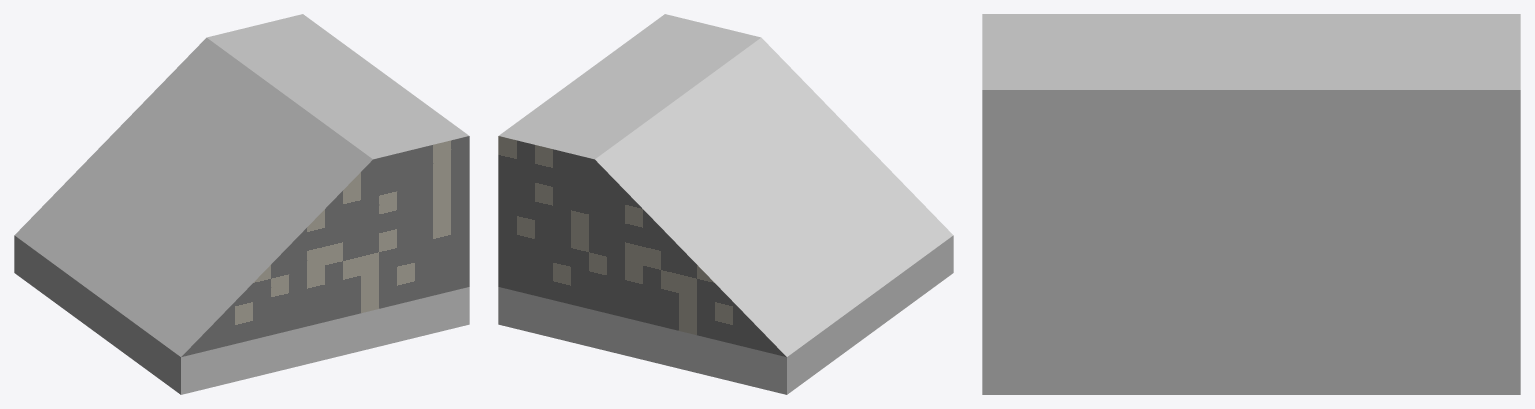
File: slope75_shave4_base2.obj
3 views of the same model, side by side, from view 1: azimuth 30°, elevation 25°; view 2: azimuth 150°, elevation 25°; view 3: azimuth 270°, elevation 25° (orthographic). The views are drawn at different scales.
Bounding box in the file's own units: 1 × 0.625 × 1.
